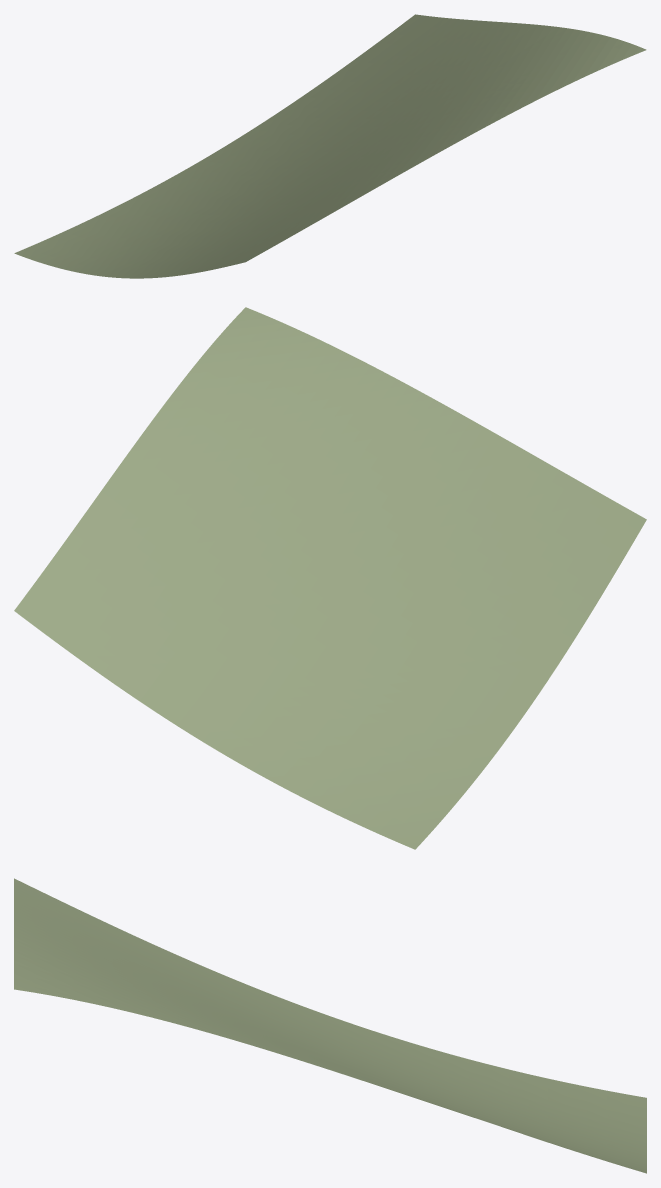
File: expanse-27-27.glb
The picture shows the model from 3 angles, top to bottom: view 1: azimuth 30°, elevation 25°; view 2: azimuth 150°, elevation 25°; view 3: azimuth 270°, elevation 25°; orthographic projection. The views are drawn at different scales.
Visible parts, largest first — view 1: expanse-27-27; view 2: expanse-27-27; view 3: expanse-27-27.
Boxes of the visible parts, x1,y1,x2,y2 form: expanse-27-27: (14, 14, 646, 278); expanse-27-27: (14, 307, 646, 849); expanse-27-27: (14, 878, 646, 1173).
Bounding box in the file's own units: 256 × 168 × 256.
